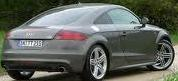back_view: (1, 27, 92, 71)
backlight: (51, 25, 90, 42)
side_glass: (95, 5, 143, 27)
